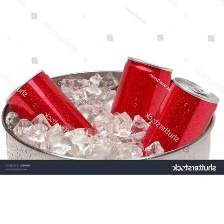can: (4, 67, 98, 143), (138, 77, 219, 156), (110, 53, 177, 135)
